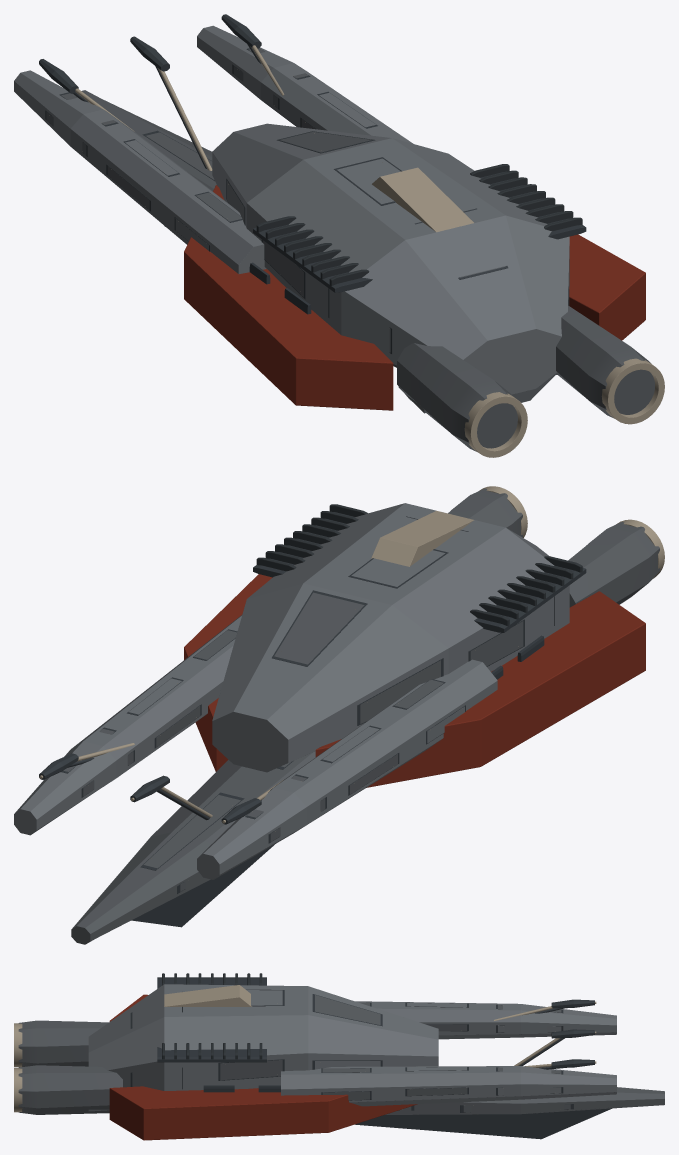
The model's file is destroyer_raptor.glb.
The picture shows the model from 3 angles, top to bottom: view 1: azimuth 30°, elevation 25°; view 2: azimuth 150°, elevation 25°; view 3: azimuth 270°, elevation 25°; orthographic projection. The views are drawn at different scales.
Visible parts, largest first — view 1: v4_forge_hull, v4_forge_paint, v4_forge_secondary, v4_forge_trim, v4_forge_dark, v4_forge_ceramic; view 2: v4_forge_hull, v4_forge_secondary, v4_forge_paint, v4_forge_dark, v4_forge_ceramic, v4_forge_trim; view 3: v4_forge_hull, v4_forge_secondary, v4_forge_paint, v4_forge_dark, v4_forge_trim, v4_forge_ceramic.
Boxes of the visible parts, left/top/right/bottom form: v4_forge_hull: left=14, top=25, right=569, bottom=394; v4_forge_paint: left=184, top=185, right=645, bottom=410; v4_forge_secondary: left=46, top=48, right=654, bottom=451; v4_forge_trim: left=49, top=45, right=664, bottom=457; v4_forge_dark: left=39, top=14, right=586, bottom=353; v4_forge_ceramic: left=256, top=164, right=582, bottom=285; v4_forge_hull: left=14, top=503, right=569, bottom=879; v4_forge_secondary: left=63, top=488, right=659, bottom=944; v4_forge_paint: left=184, top=574, right=645, bottom=787; v4_forge_dark: left=39, top=511, right=586, bottom=927; v4_forge_ceramic: left=256, top=504, right=582, bottom=626; v4_forge_trim: left=39, top=486, right=664, bottom=858; v4_forge_hull: left=88, top=984, right=616, bottom=1106; v4_forge_secondary: left=18, top=995, right=664, bottom=1114; v4_forge_paint: left=109, top=994, right=417, bottom=1140; v4_forge_dark: left=130, top=977, right=612, bottom=1139; v4_forge_trim: left=14, top=985, right=596, bottom=1112; v4_forge_ceramic: left=162, top=973, right=262, bottom=1059.
Size of the model in its own units: 27.59 by 16.38 by 66.43.
